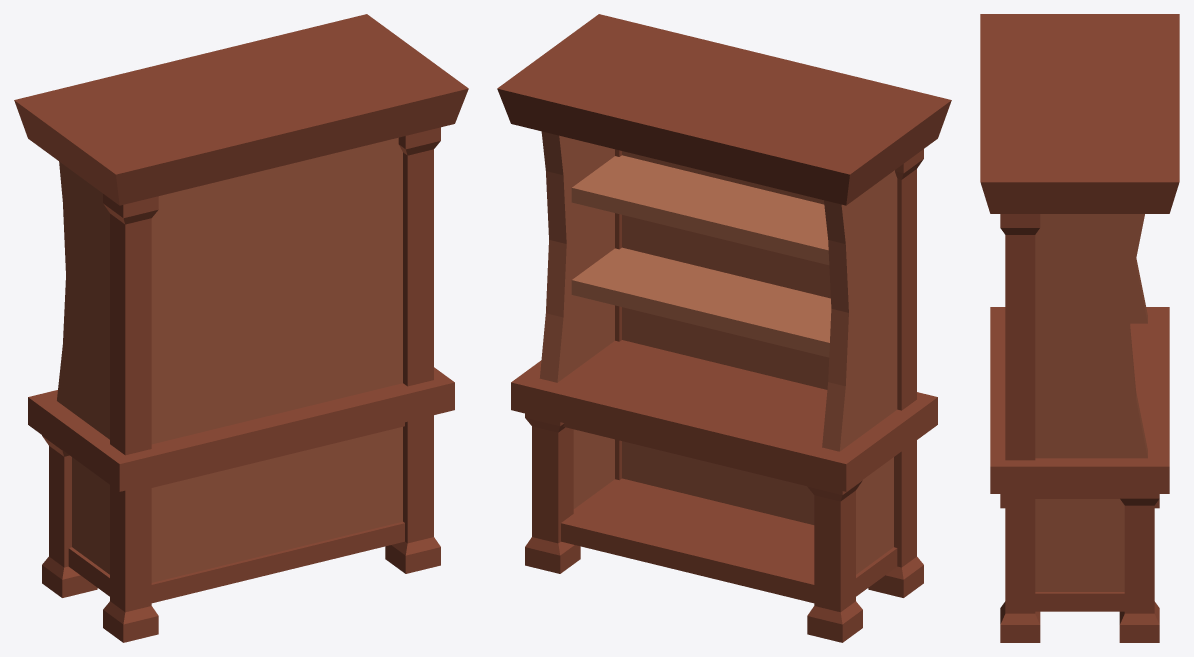
Rendered from Bookshelf.fbx.
3 views of the same model, side by side, from view 1: azimuth 30°, elevation 25°; view 2: azimuth 150°, elevation 25°; view 3: azimuth 270°, elevation 25° (orthographic). The views are drawn at different scales.
Parts seen in each view (by area): view 1: Bookshelf; view 2: Bookshelf; view 3: Bookshelf.
Part boxes in pixels (box(x1,y1,x2,y2)): Bookshelf: box(14, 14, 468, 642); Bookshelf: box(497, 14, 951, 642); Bookshelf: box(980, 14, 1179, 642).
Bounding box in the file's own units: 2 × 1 × 2.6.
